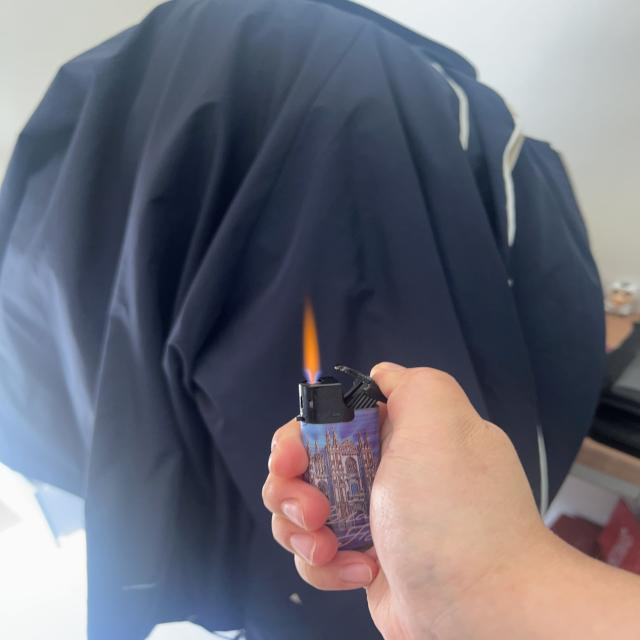fire: (299, 299, 323, 384)
